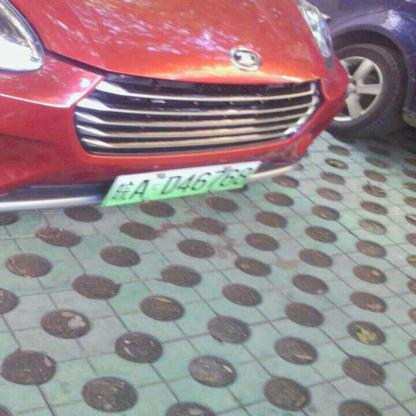lp: (104, 164, 259, 205)
